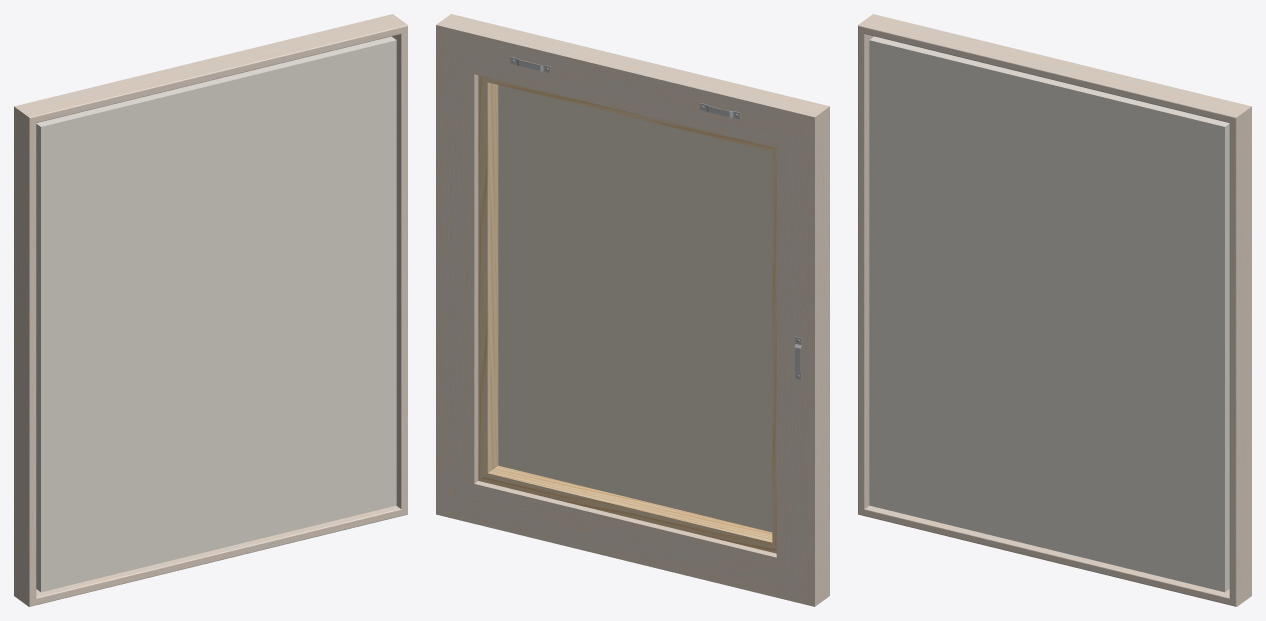
Rendered from delivery.glb.
3 views of the same model, side by side, from view 1: azimuth 30°, elevation 25°; view 2: azimuth 150°, elevation 25°; view 3: azimuth 330°, elevation 25° (orthographic).
Parts seen in each view (by area): view 1: Canvas artwork front, Tray approved profile 0; view 2: Canvas linen reverse, Tray approved profile 0, Stretcher top, Sawtooth hanger 0; view 3: Canvas artwork front, Tray approved profile 0.
Part boxes in pixels (x1,y1,x2,y2): Canvas artwork front: [36, 36, 396, 592]; Tray approved profile 0: [14, 14, 407, 606]; Canvas linen reverse: [498, 85, 772, 532]; Tray approved profile 0: [436, 14, 829, 606]; Stretcher top: [478, 75, 776, 553]; Sawtooth hanger 0: [510, 57, 801, 379]; Canvas artwork front: [869, 36, 1229, 592]; Tray approved profile 0: [858, 14, 1251, 606].
Bounding box in the file's own units: 0.426 × 0.526 × 0.0324.
7 materials, 3 textured.
